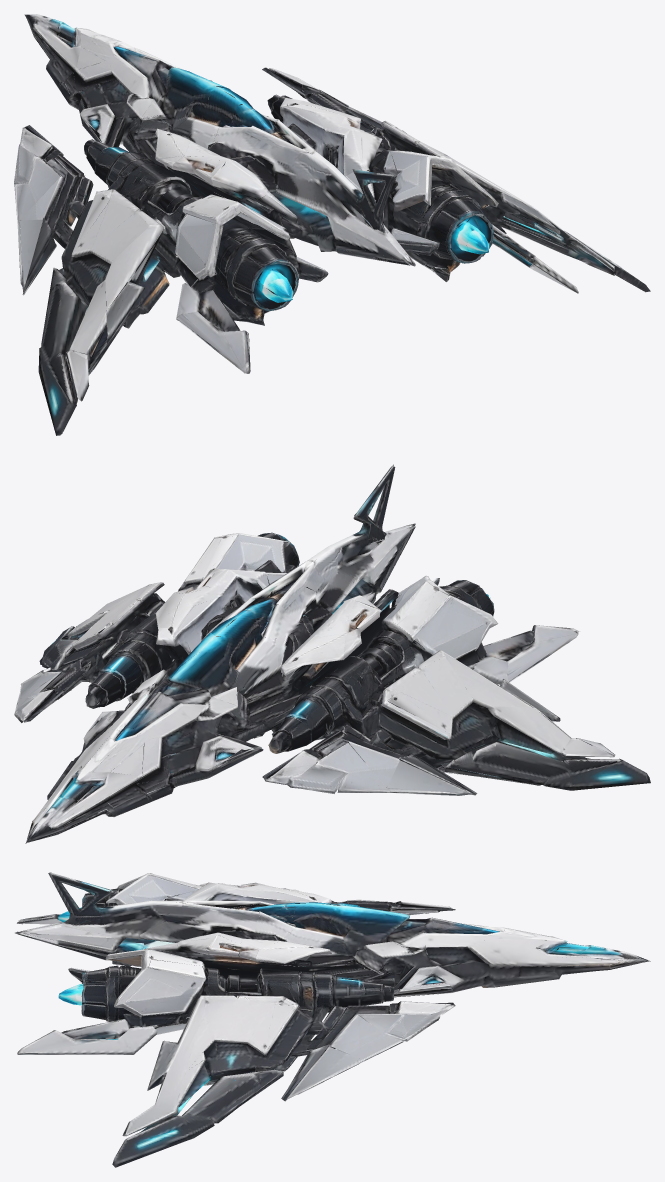
Rendered from vanguard.high.glb.
3 views of the same model, one above another, from view 1: azimuth 30°, elevation 25°; view 2: azimuth 150°, elevation 25°; view 3: azimuth 270°, elevation 25° (orthographic). The views are drawn at different scales.
Parts seen in each view (by area): view 1: vanguard_mesh; view 2: vanguard_mesh; view 3: vanguard_mesh.
Part boxes in pixels (x1,y1,x2,y2): vanguard_mesh: (14,14,650,435); vanguard_mesh: (14,464,650,843); vanguard_mesh: (15,872,650,1167).
Size of the model in its own units: 1.76 by 0.6152 by 2.
Materials: 1 (1 with a texture image).
